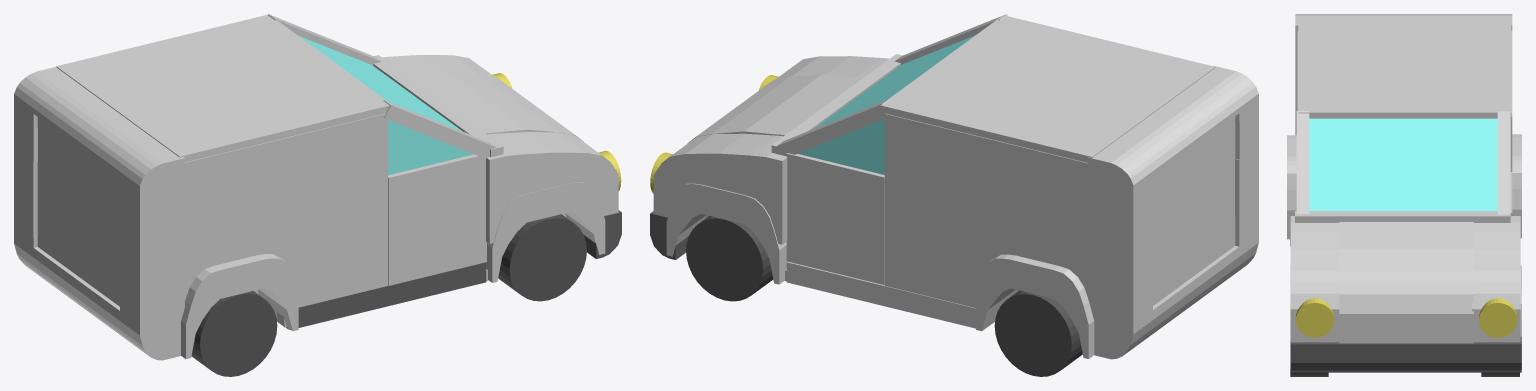
Rendered from PWS Busje(1).fbx.
The picture shows the model from 3 angles, left to right: view 1: azimuth 30°, elevation 25°; view 2: azimuth 150°, elevation 25°; view 3: azimuth 270°, elevation 25°; orthographic projection. The views are drawn at different scales.
Visible parts, largest first — view 1: Cube.024; view 2: Cube.024; view 3: Cube.024.
Boxes of the visible parts, x1,y1,x2,y2 form: Cube.024: [14, 14, 621, 376]; Cube.024: [650, 14, 1258, 376]; Cube.024: [1287, 14, 1521, 376].
Bounding box in the file's own units: 747 × 341 × 366.
